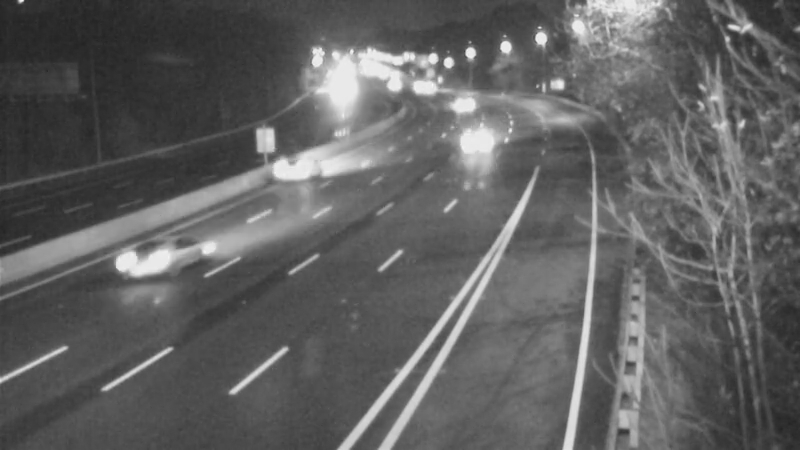vehicle: (267, 131, 347, 211), (103, 224, 183, 304), (436, 74, 486, 124), (451, 112, 501, 162)
